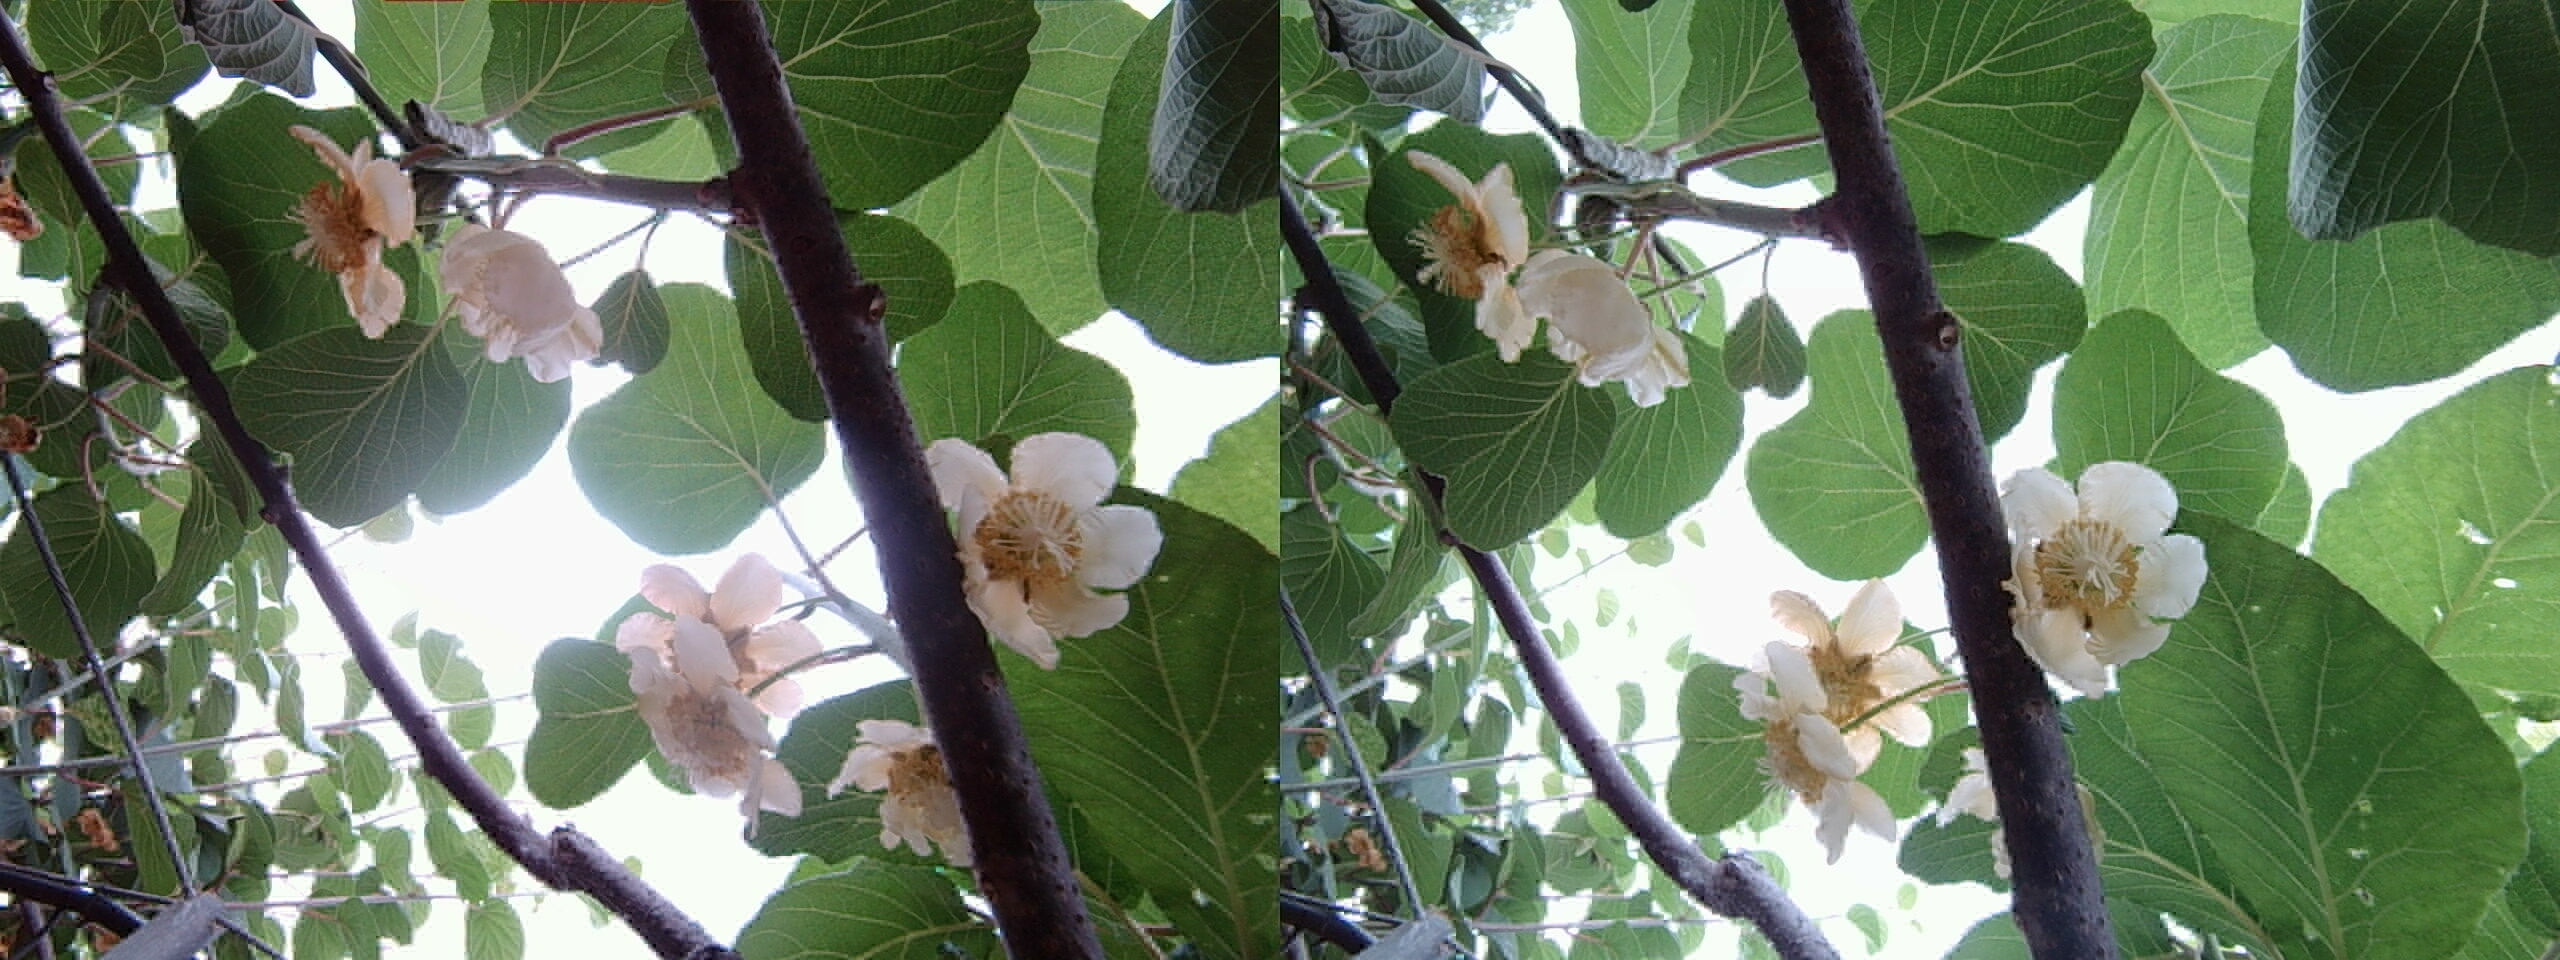flower: (1997, 447, 2206, 689), (945, 431, 1158, 660), (612, 567, 784, 797), (1755, 580, 1923, 766), (1371, 140, 1536, 315), (273, 124, 411, 322), (826, 712, 976, 877), (1491, 251, 1656, 384), (441, 230, 591, 374)
